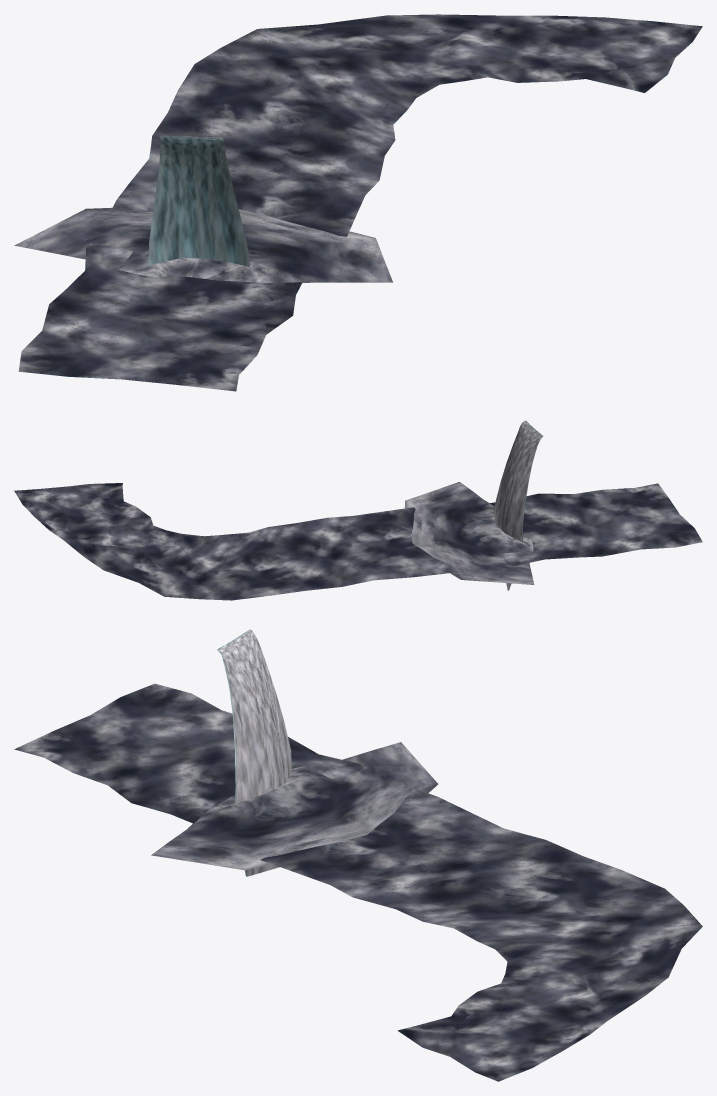
Rendered from MIRKWOOD_WATER01.fbx.
3 views of the same model, one above another, from view 1: azimuth 30°, elevation 25°; view 2: azimuth 150°, elevation 25°; view 3: azimuth 270°, elevation 25° (orthographic). The views are drawn at different scales.
Parts seen in each view (by area): view 1: MIRKWOOD_WATER01; view 2: MIRKWOOD_WATER01; view 3: MIRKWOOD_WATER01.
Boxes of the visible parts, x1,y1,x2,y2 form: MIRKWOOD_WATER01: (14, 14, 702, 391); MIRKWOOD_WATER01: (14, 420, 702, 600); MIRKWOOD_WATER01: (14, 629, 702, 1081).
Size of the model in its own units: 612047 by 157806 by 447171.
5 materials, 5 textured.
